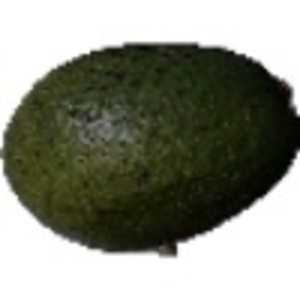abacate: (5, 37, 296, 248)
